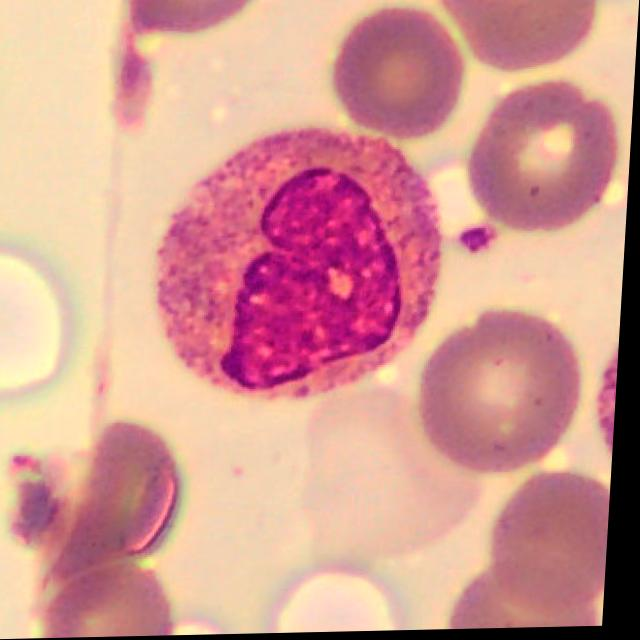Neutrofilo segmentado: (156, 130, 446, 406)
